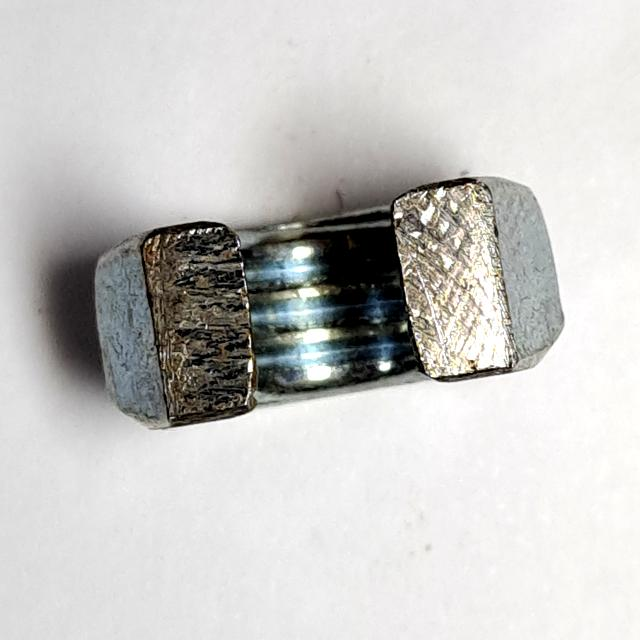Side-Fracture: (83, 171, 575, 446)
